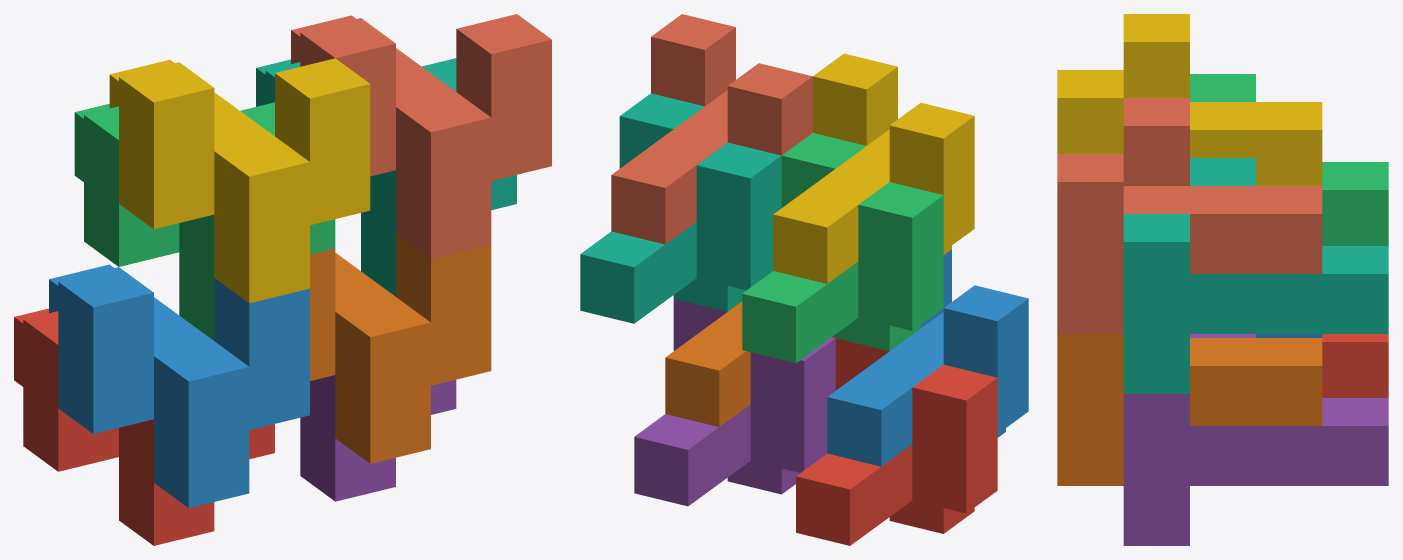
Rendered from tiling.obj.
The picture shows the model from 3 angles, left to right: view 1: azimuth 30°, elevation 25°; view 2: azimuth 150°, elevation 25°; view 3: azimuth 270°, elevation 25°; orthographic projection. The views are drawn at different scales.
Visible parts, largest first — view 1: copy_1_domain_4, copy_1_domain_2, copy_1_domain_8, copy_1_domain_6, copy_1_domain_1, copy_1_domain_3, copy_1_domain_5, copy_1_domain_7; view 2: copy_1_domain_4, copy_1_domain_3, copy_1_domain_7, copy_1_domain_1, copy_1_domain_8, copy_1_domain_5, copy_1_domain_2, copy_1_domain_6; view 3: copy_1_domain_8, copy_1_domain_7, copy_1_domain_5, copy_1_domain_6, copy_1_domain_4, copy_1_domain_3, copy_1_domain_1.
Boxes of the visible parts, x1,y1,x2,y2 form: copy_1_domain_4: (109, 58, 370, 303); copy_1_domain_2: (49, 264, 309, 507); copy_1_domain_8: (291, 14, 551, 258); copy_1_domain_6: (310, 234, 491, 463); copy_1_domain_1: (14, 308, 274, 545); copy_1_domain_3: (74, 102, 335, 340); copy_1_domain_5: (300, 375, 456, 501); copy_1_domain_7: (256, 58, 516, 296); copy_1_domain_4: (773, 53, 974, 283); copy_1_domain_3: (742, 133, 943, 363); copy_1_domain_7: (580, 93, 781, 323); copy_1_domain_1: (796, 338, 997, 545); copy_1_domain_8: (611, 14, 812, 244); copy_1_domain_5: (634, 299, 835, 506); copy_1_domain_2: (827, 249, 1028, 466); copy_1_domain_6: (665, 301, 835, 426); copy_1_domain_8: (1057, 98, 1322, 333); copy_1_domain_7: (1123, 158, 1388, 393); copy_1_domain_5: (1123, 334, 1388, 545); copy_1_domain_6: (1057, 334, 1322, 485); copy_1_domain_4: (1057, 14, 1322, 185); copy_1_domain_3: (1190, 74, 1388, 245); copy_1_domain_1: (1322, 334, 1388, 397).
Size of the model in its own units: 7 by 7 by 5.
